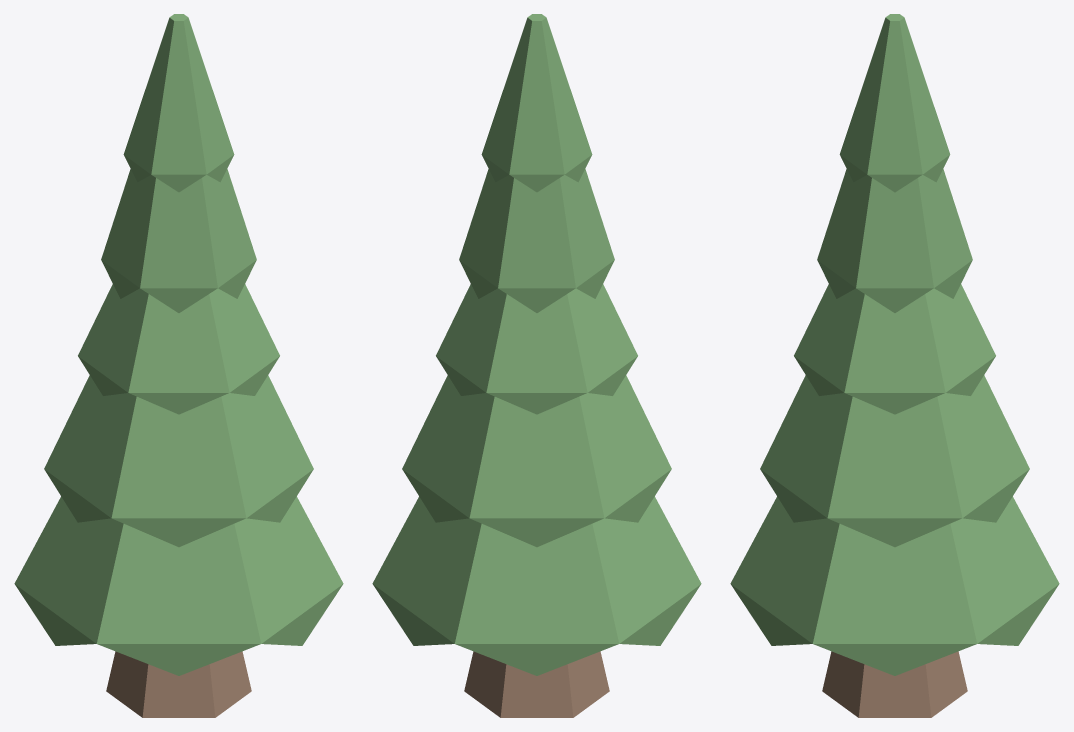
The model's file is tree_pineRoundC.glb.
3 renders of one model, left to right at view 1: azimuth 30°, elevation 25°; view 2: azimuth 150°, elevation 25°; view 3: azimuth 270°, elevation 25°, orthographic.
Visible parts, largest first — view 1: tree_pineRoundC; view 2: tree_pineRoundC; view 3: tree_pineRoundC.
Boxes of the visible parts, x1,y1,x2,y2 form: tree_pineRoundC: (14,14,343,717); tree_pineRoundC: (372,14,701,717); tree_pineRoundC: (730,14,1059,717).
Size of the model in its own units: 0.4804 by 1.25 by 0.5548.
